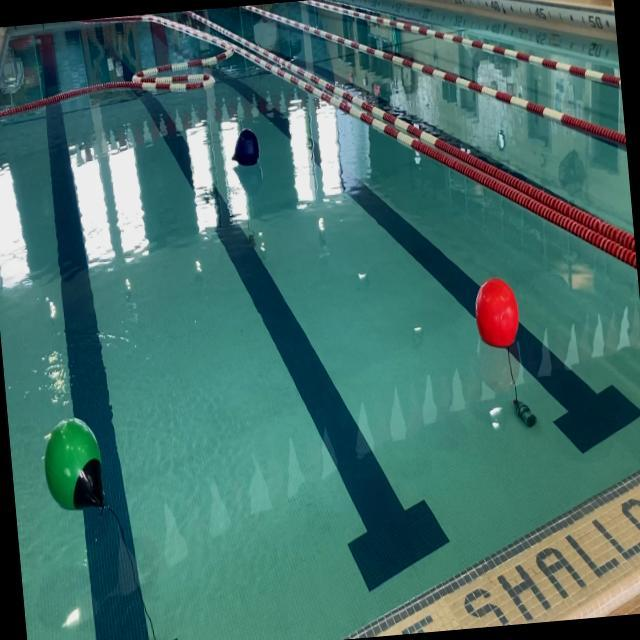buoy: (39, 416, 108, 516), (472, 274, 520, 349), (228, 128, 260, 167)
